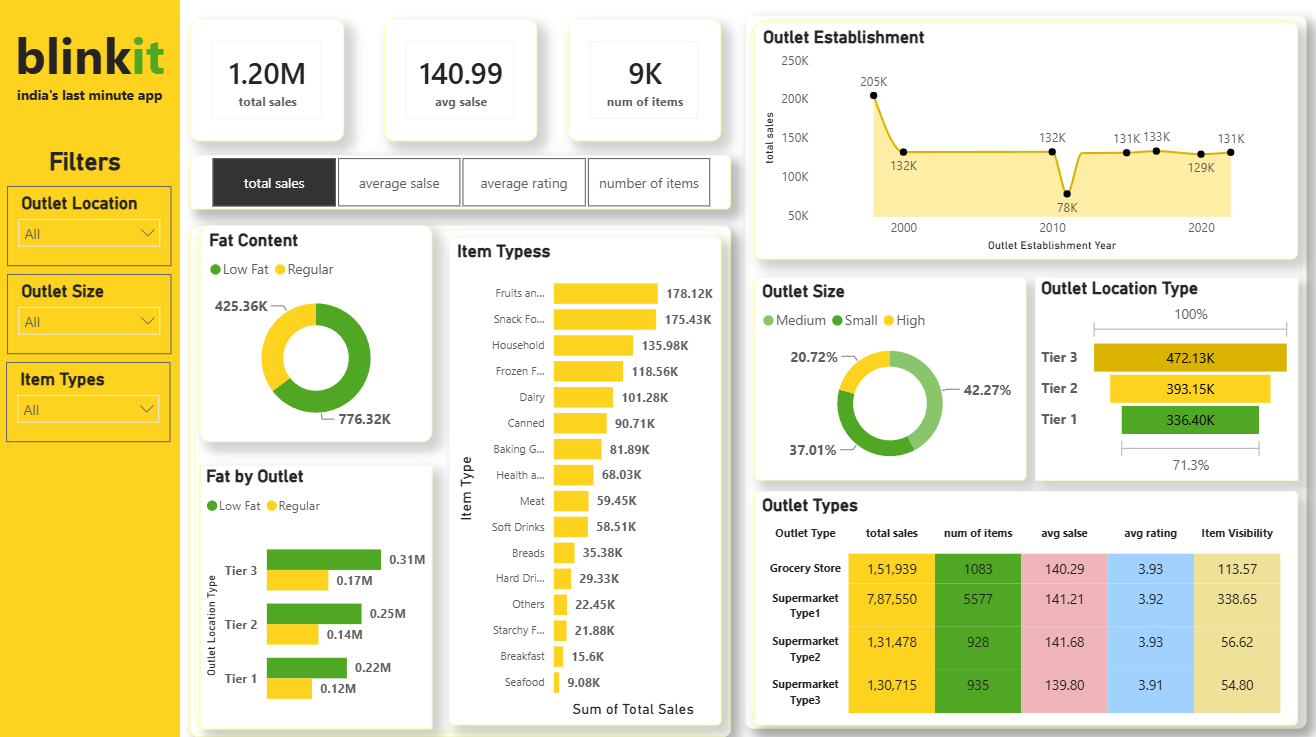

The page's visual inventory and layout, read from the dashboard file:
{"tool":"powerbi","page":{"name":"Page 1","canvas":[1280,720],"ordinal":0},"visuals":[{"type":"shape","box":[0,0,175.1,800.5],"z":0},{"type":"textbox","box":[5.8,15.6,163.4,73.9],"z":1000},{"type":"textbox","box":[6.8,78.8,160.5,29.2],"z":2000},{"type":"cardVisual","fields":{"Data":["new mesures.average salse"]},"box":[373.5,19.5,148.8,118.7],"z":3000},{"type":"cardVisual","fields":{"Data":["new mesures.number of items"]},"box":[552.5,19.5,148.8,118.7],"z":4000},{"type":"cardVisual","fields":{"Data":["new mesures.total sales"]},"box":[184.8,19.5,149.8,118.7],"z":5000},{"type":"shape","box":[184.8,219.8,526.2,498],"z":6000},{"type":"slicer","fields":{"Values":["metrics.metrics"]},"box":[184.8,151.7,526.2,52.5],"z":7000},{"type":"donutChart","title":"Fat Content","fields":{"Y":["new mesures.total sales"],"Category":["BlinkIT Grocery Data.Item Fat Content"]},"box":[194.5,219.8,225.7,211.1],"z":8000},{"type":"clusteredBarChart","title":"Fat by Outlet","fields":{"Y":["new mesures.total sales"],"Category":["BlinkIT Grocery Data.Outlet Location Type"],"Series":["BlinkIT Grocery Data.Item Fat Content"]},"box":[194.5,453.3,225.7,256.8],"z":9000},{"type":"barChart","title":"Item Typess","fields":{"Category":["BlinkIT Grocery Data.Item Type"],"Y":["Sum(BlinkIT Grocery Data.Total Sales)"]},"box":[436.7,231.5,264.6,474.7],"z":10000},{"type":"shape","box":[724.6,15.6,545.7,694.5],"z":11000},{"type":"lineChart","title":"Outlet Establishment","fields":{"Category":["BlinkIT Grocery Data.Outlet Establishment Year"],"Y":["new mesures.total sales"]},"box":[733.4,22.4,529.1,231.5],"z":12000},{"type":"donutChart","title":"Outlet Size","fields":{"Category":["BlinkIT Grocery Data.Outlet Size"],"Y":["Sum(BlinkIT Grocery Data.Total Sales)"]},"box":[733.4,270.4,264.6,198.4],"z":13000},{"type":"funnel","title":"Outlet Location Type","fields":{"Category":["BlinkIT Grocery Data.Outlet Location Type"],"Y":["Sum(BlinkIT Grocery Data.Total Sales)"]},"box":[1006.7,270.4,255.8,198.4],"z":14000},{"type":"pivotTable","title":"Outlet Types","fields":{"Values":["new mesures.total sales","new mesures.number of items","new mesures.average salse","new mesures.average rating","Sum(BlinkIT Grocery Data.Item Visibility)"],"Rows":["BlinkIT Grocery Data.Outlet Type"]},"box":[733.4,478.5,529.1,227.6],"z":15000},{"type":"slicer","fields":{"Values":["BlinkIT Grocery Data.Outlet Location Type"]},"box":[6.8,181.9,160.5,77.8],"z":16000},{"type":"slicer","fields":{"Values":["BlinkIT Grocery Data.Outlet Size"]},"box":[6.8,267.5,160.5,77.8],"z":17000},{"type":"slicer","fields":{"Values":["BlinkIT Grocery Data.Item Type"]},"box":[5.8,353.1,160.5,77.8],"z":18000},{"type":"textbox","title":"Filters","box":[42.8,144,87.5,27.2],"z":19000}]}

Visuals, with their boxes in screenshot pixels (x1, y1, x2, y2), scaled from the page's 1280x720 canvas onto the 1316x737 screenshot:
shape: [x1=0, y1=0, x2=180, y2=736]
textbox: [x1=6, y1=16, x2=174, y2=92]
textbox: [x1=7, y1=81, x2=172, y2=111]
cardVisual - new mesures.average salse: [x1=384, y1=20, x2=537, y2=141]
cardVisual - new mesures.number of items: [x1=568, y1=20, x2=721, y2=141]
cardVisual - new mesures.total sales: [x1=190, y1=20, x2=344, y2=141]
shape: [x1=190, y1=225, x2=731, y2=735]
slicer - metrics.metrics: [x1=190, y1=155, x2=731, y2=209]
"Fat Content" donutChart: [x1=200, y1=225, x2=432, y2=441]
"Fat by Outlet" clusteredBarChart: [x1=200, y1=464, x2=432, y2=727]
"Item Typess" barChart: [x1=449, y1=237, x2=721, y2=723]
shape: [x1=745, y1=16, x2=1306, y2=727]
"Outlet Establishment" lineChart: [x1=754, y1=23, x2=1298, y2=260]
"Outlet Size" donutChart: [x1=754, y1=277, x2=1026, y2=480]
"Outlet Location Type" funnel: [x1=1035, y1=277, x2=1298, y2=480]
"Outlet Types" pivotTable: [x1=754, y1=490, x2=1298, y2=723]
slicer - BlinkIT Grocery Data.Outlet Location Type: [x1=7, y1=186, x2=172, y2=266]
slicer - BlinkIT Grocery Data.Outlet Size: [x1=7, y1=274, x2=172, y2=353]
slicer - BlinkIT Grocery Data.Item Type: [x1=6, y1=361, x2=171, y2=441]
"Filters" textbox: [x1=44, y1=147, x2=134, y2=175]
